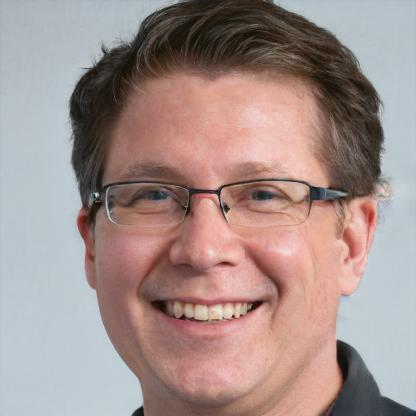glasses: (87, 175, 336, 231)
